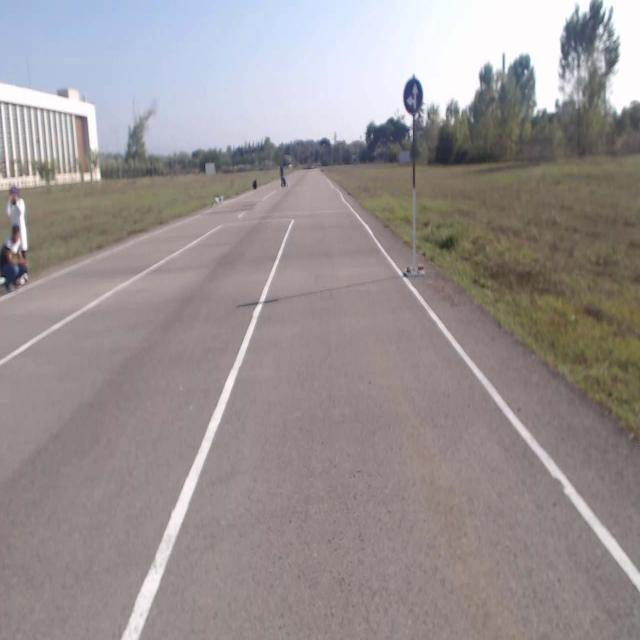ilerisol: (405, 79, 422, 113)
